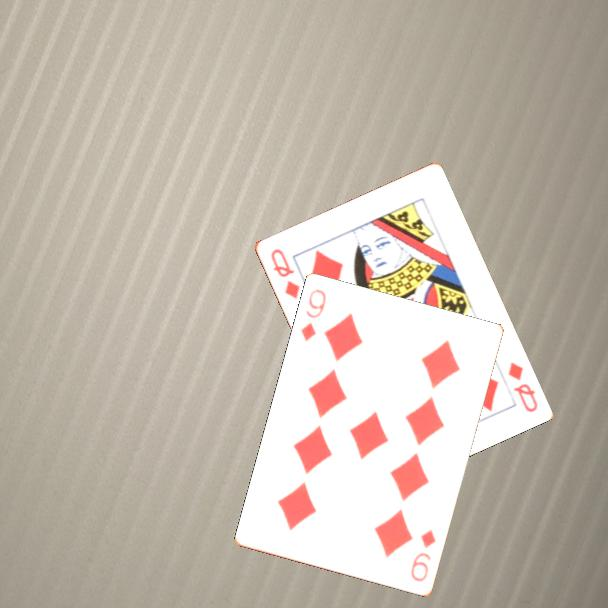d09: (407, 526, 439, 585), (297, 286, 329, 345)
d12: (504, 358, 540, 415), (267, 245, 302, 302)
